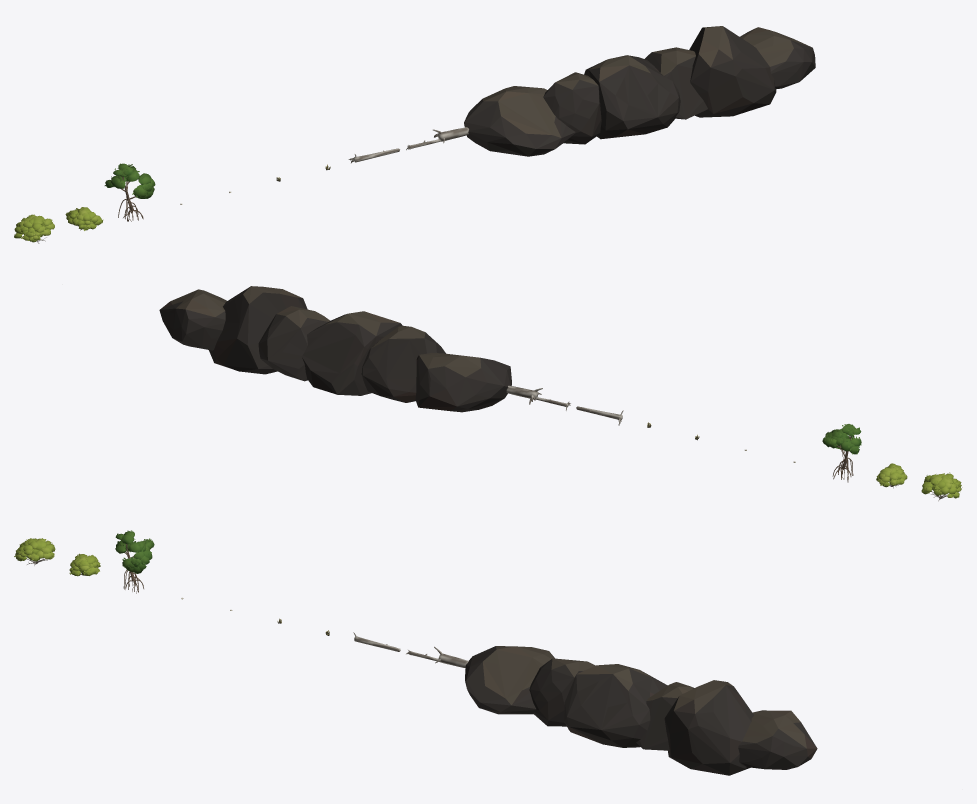
File: dunes.glb
The picture shows the model from 3 angles, top to bottom: view 1: azimuth 30°, elevation 25°; view 2: azimuth 150°, elevation 25°; view 3: azimuth 330°, elevation 25°; orthographic projection.
Parts seen in each view (by area): view 1: basalt_4, basalt_2, basalt_0, basalt_1, basalt_5, basalt_3, mangrove, saltbush_0, saltbush_1; view 2: basalt_2, basalt_0, basalt_4, basalt_1, basalt_3, basalt_5, mangrove, saltbush_0, saltbush_1; view 3: basalt_4, basalt_2, basalt_0, basalt_5, basalt_1, basalt_3, mangrove, saltbush_0, saltbush_1.
Boxes of the visible parts, bbox=[...] form: basalt_4: bbox=[689, 26, 776, 117]; basalt_2: bbox=[584, 55, 680, 139]; basalt_0: bbox=[464, 86, 575, 156]; basalt_1: bbox=[543, 72, 601, 144]; basalt_5: bbox=[740, 27, 815, 89]; basalt_3: bbox=[645, 47, 707, 119]; mangrove: bbox=[104, 163, 155, 221]; saltbush_0: bbox=[14, 214, 54, 243]; saltbush_1: bbox=[65, 207, 103, 230]; basalt_2: bbox=[302, 311, 402, 395]; basalt_0: bbox=[415, 353, 511, 412]; basalt_4: bbox=[209, 286, 307, 374]; basalt_1: bbox=[361, 325, 445, 402]; basalt_3: bbox=[258, 306, 330, 381]; basalt_5: bbox=[159, 289, 226, 350]; mangrove: bbox=[822, 424, 861, 482]; saltbush_0: bbox=[921, 472, 962, 501]; saltbush_1: bbox=[876, 463, 907, 488]; basalt_4: bbox=[664, 680, 753, 775]; basalt_2: bbox=[564, 664, 667, 747]; basalt_0: bbox=[465, 646, 554, 714]; basalt_5: bbox=[738, 710, 817, 769]; basalt_1: bbox=[529, 658, 595, 726]; basalt_3: bbox=[636, 682, 694, 750]; mangrove: bbox=[115, 530, 154, 593]; saltbush_0: bbox=[14, 538, 55, 565]; saltbush_1: bbox=[69, 553, 100, 576].
Bounding box in the file's own units: 19.4 × 1.52 × 2.04.
